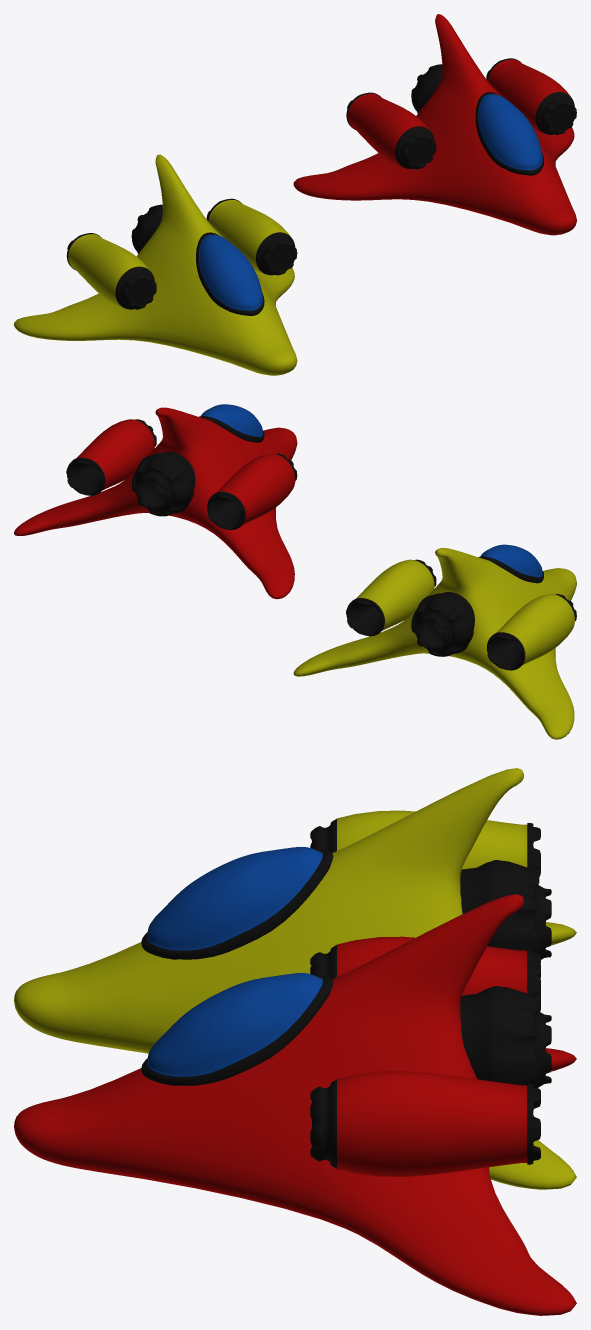
The model's file is Platypus.fbx.
3 renders of one model, top to bottom at view 1: azimuth 30°, elevation 25°; view 2: azimuth 150°, elevation 25°; view 3: azimuth 270°, elevation 25°, orthographic. The views are drawn at different scales.
Parts seen in each view (by area): view 1: pasted__main_MDL, main_MDL, jet_right_MDL, pasted__jet_right_MDL, jet_left_MDL, pasted__jet_left_MDL, pasted__pit_MDL, pit_MDL, pasted__jet_main_MDL, jet_main_MDL; view 2: main_MDL, pasted__main_MDL, jet_right_MDL, pasted__jet_right_MDL, jet_left_MDL, pasted__jet_left_MDL, pasted__jet_main_MDL, jet_main_MDL, pasted__pit_MDL, pit_MDL; view 3: pasted__main_MDL, main_MDL, pasted__jet_left_MDL, pasted__pit_MDL, pit_MDL, pasted__jet_main_MDL, jet_main_MDL, jet_right_MDL, pasted__jet_right_MDL.
Boxes of the visible parts, <box> form: pasted__main_MDL: <box>293,14,576,235</box>; main_MDL: <box>14,154,297,375</box>; jet_right_MDL: <box>66,233,156,309</box>; pasted__jet_right_MDL: <box>346,92,436,169</box>; jet_left_MDL: <box>206,198,297,275</box>; pasted__jet_left_MDL: <box>486,58,576,134</box>; pasted__pit_MDL: <box>475,92,543,175</box>; pit_MDL: <box>196,232,264,315</box>; pasted__jet_main_MDL: <box>411,64,442,113</box>; jet_main_MDL: <box>131,204,162,253</box>; main_MDL: <box>293,548,576,739</box>; pasted__main_MDL: <box>14,407,297,599</box>; jet_right_MDL: <box>487,594,576,670</box>; pasted__jet_right_MDL: <box>207,453,297,529</box>; jet_left_MDL: <box>346,559,436,636</box>; pasted__jet_left_MDL: <box>66,419,156,495</box>; pasted__jet_main_MDL: <box>131,451,195,516</box>; jet_main_MDL: <box>411,592,474,656</box>; pasted__pit_MDL: <box>199,404,264,442</box>; pit_MDL: <box>479,544,543,583</box>; pasted__main_MDL: <box>14,894,576,1315</box>; main_MDL: <box>14,768,576,1189</box>; pasted__jet_left_MDL: <box>310,1071,540,1176</box>; pasted__pit_MDL: <box>141,973,333,1085</box>; pit_MDL: <box>141,847,333,959</box>; pasted__jet_main_MDL: <box>460,986,551,1087</box>; jet_main_MDL: <box>460,860,551,959</box>; jet_right_MDL: <box>310,810,540,876</box>; pasted__jet_right_MDL: <box>310,936,540,1002</box>.
Size of the model in its own units: 74.61 by 28.94 by 33.76.
